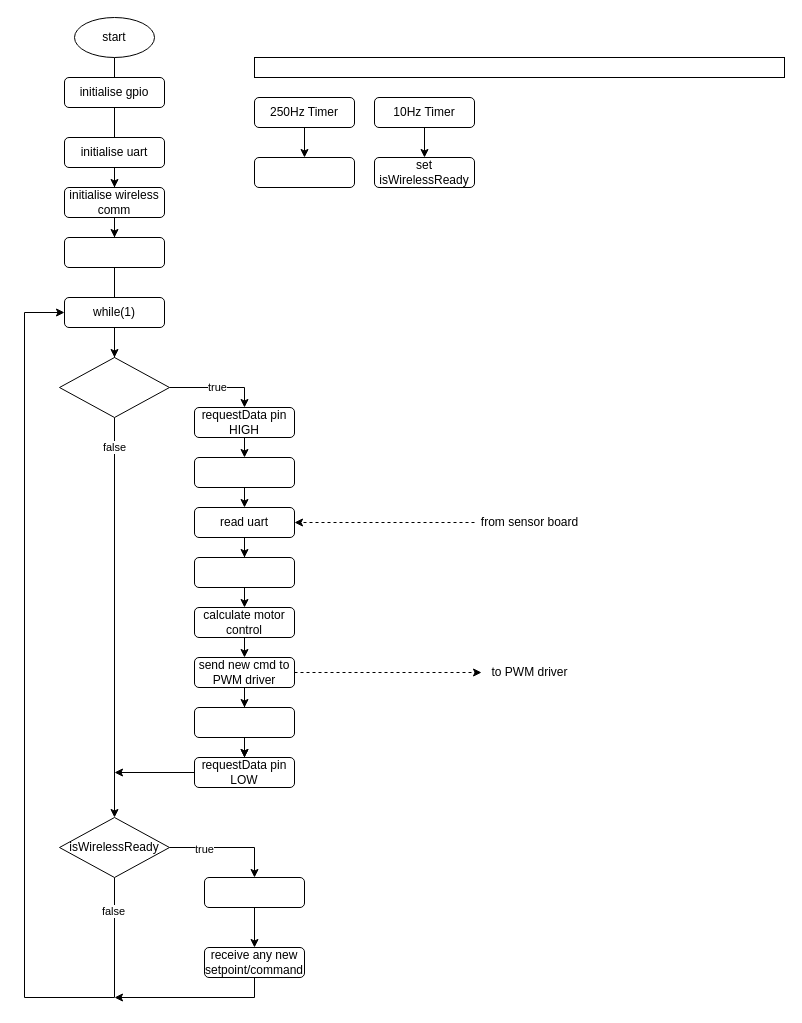
This 802x1023 diagram has some shape labels left out. The centre of each missing label's shape, as x and y in pixels:
"initialise interrupts" belongs at (x=114, y=252).
"interrupts" belongs at (x=519, y=67).
"isReceiveReady" belongs at (x=114, y=387).
"send isAlive pulse to host" belongs at (x=254, y=892).
"set isReceiveReady" belongs at (x=304, y=172).
"store/log data" belongs at (x=244, y=722).
"unpack sensor data" belongs at (x=244, y=572).
"wait for uart rx not empty" belongs at (x=244, y=472).
